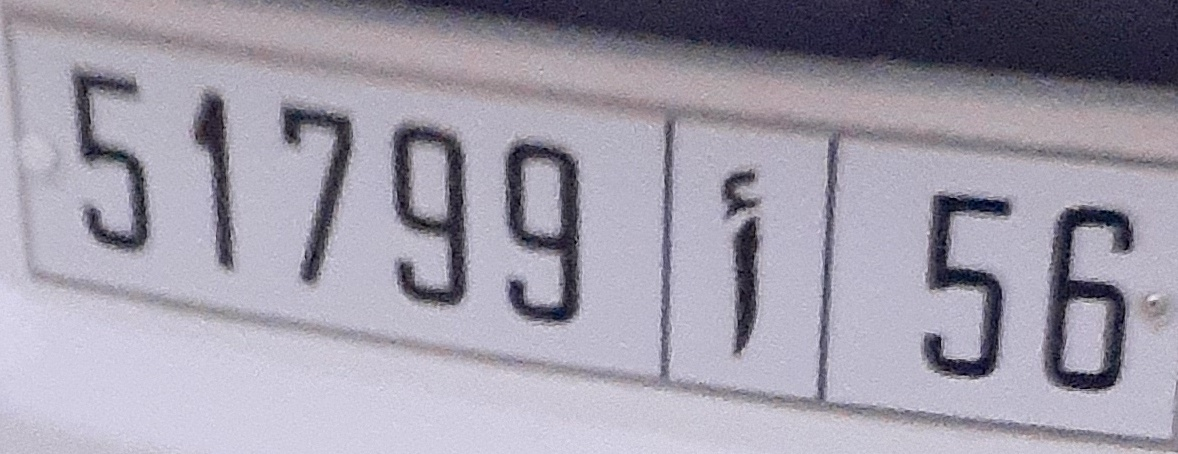1: (182, 86, 247, 274)
5: (917, 186, 1011, 387), (61, 60, 154, 258)
6: (1039, 199, 1136, 407)
7: (275, 103, 358, 287)
9: (383, 115, 472, 311), (500, 135, 583, 326)
a: (717, 160, 767, 365)
